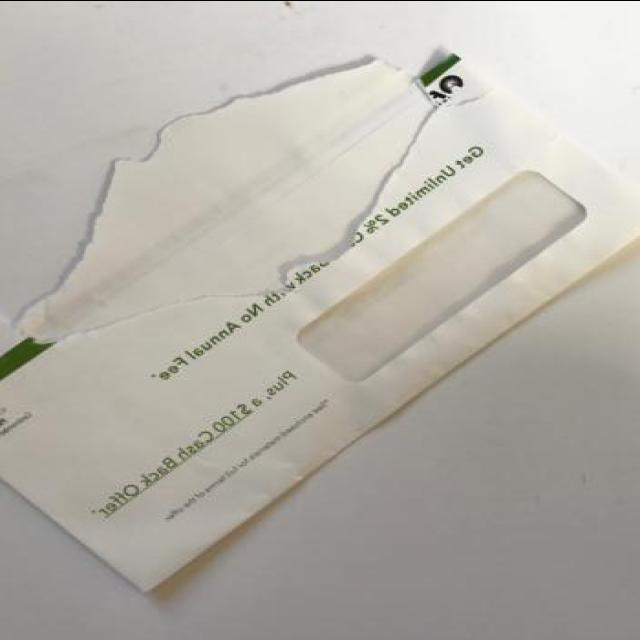kertas: (0, 49, 640, 597)
